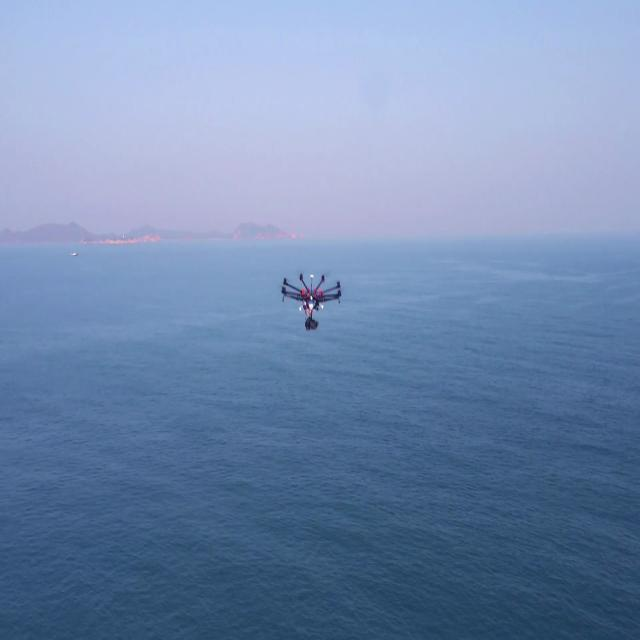drone: (276, 251, 355, 333)
